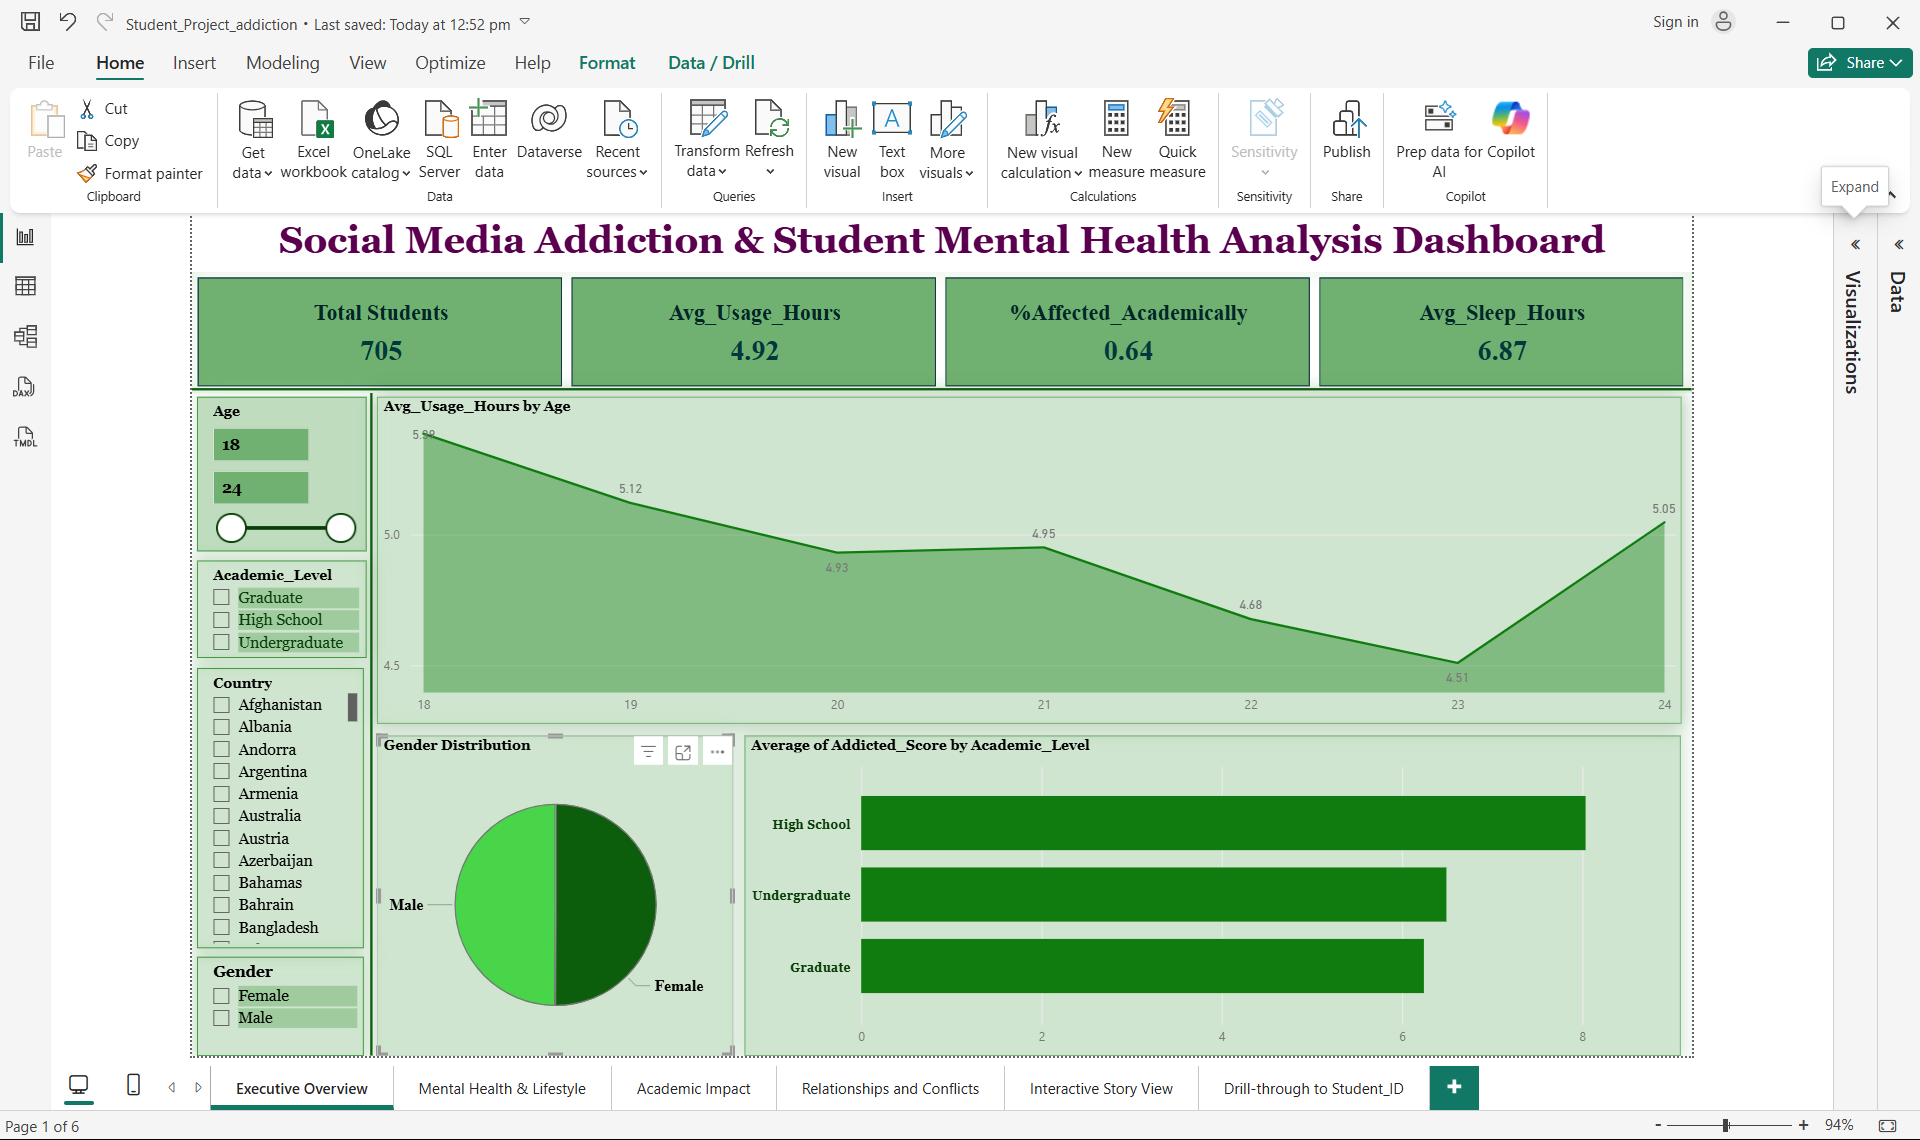

What the dashboard file says about the page in this screenshot:
{"tool":"powerbi","page":{"name":"Executive Overview","canvas":[1280,720],"ordinal":0},"visuals":[{"type":"cardVisual","fields":{"Data":["Student Details.Total Students","Student Details.Avg_Usage_Hours","Student Details.%Affected_Academically","Student Details.Avg_Sleep_Hours"]},"box":[0,50,1280.2,103.5],"z":0},{"type":"clusteredBarChart","fields":{"Category":["Student Details.Academic_Level"],"Y":["Avg(Student Details.Addicted_Score)"]},"box":[472,446,799.4,273.3],"z":1000},{"type":"lineChart","fields":{"Y":["Student Details.Avg_Usage_Hours"],"Category":["Student Details.Age"]},"box":[158.1,157,1113.3,278.9],"z":2000},{"type":"pieChart","title":"Gender Distribution","fields":{"Category":["Student Details.Gender"],"Y":["CountNonNull(Student Details.Student_ID)"]},"box":[158.1,446,303.7,274.4],"z":3000},{"type":"slicer","fields":{"Values":["Student Details.Gender"]},"box":[4.5,635.3,142.3,84.7],"z":4000},{"type":"slicer","fields":{"Values":["Student Details.Country"]},"box":[4.5,388.4,142.3,239.4],"z":5000},{"type":"slicer","fields":{"Values":["Student Details.Academic_Level"]},"box":[4.5,297,144.5,83.6],"z":6000},{"type":"slicer","fields":{"Values":["Student Details.Age"]},"box":[4.5,157,144.5,132.1],"z":7000},{"type":"textbox","box":[0,0,1280.5,49.7],"z":8000},{"type":"shape","box":[148.3,153.6,9.6,565.5],"z":9000},{"type":"shape","box":[0,144,1280.4,12.8],"z":10000}]}

Visuals, with their boxes on the page's 1280x720 design canvas (x1, y1, x2, y2). These are canvas units, not pixel positions in the 1920x1140 screenshot, which may show the page scaled, cropped or inside an application window:
cardVisual - Student Details.Total Students x Student Details.Avg_Usage_Hours: {"left": 0, "top": 50, "right": 1280, "bottom": 154}
clusteredBarChart - Student Details.Academic_Level x Avg(Student Details.Addicted_Score): {"left": 472, "top": 446, "right": 1271, "bottom": 719}
lineChart - Student Details.Avg_Usage_Hours x Student Details.Age: {"left": 158, "top": 157, "right": 1271, "bottom": 436}
"Gender Distribution" pieChart: {"left": 158, "top": 446, "right": 462, "bottom": 720}
slicer - Student Details.Gender: {"left": 4, "top": 635, "right": 147, "bottom": 720}
slicer - Student Details.Country: {"left": 4, "top": 388, "right": 147, "bottom": 628}
slicer - Student Details.Academic_Level: {"left": 4, "top": 297, "right": 149, "bottom": 381}
slicer - Student Details.Age: {"left": 4, "top": 157, "right": 149, "bottom": 289}
textbox: {"left": 0, "top": 0, "right": 1280, "bottom": 50}
shape: {"left": 148, "top": 154, "right": 158, "bottom": 719}
shape: {"left": 0, "top": 144, "right": 1280, "bottom": 157}
